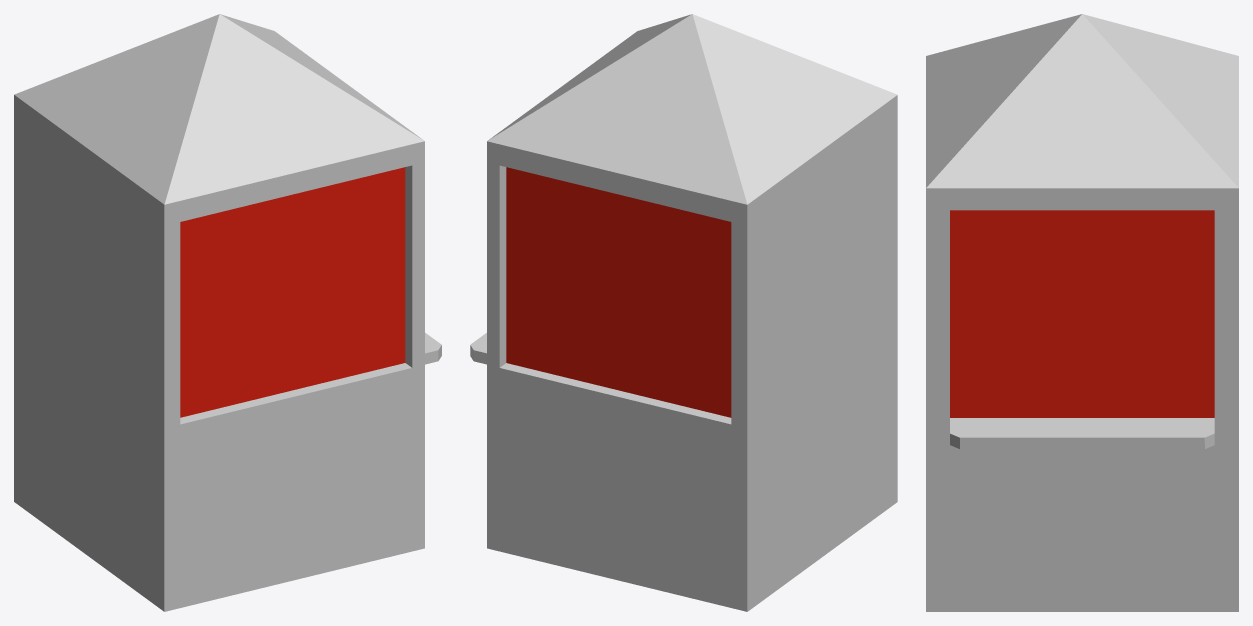
The model's file is Kartenhäuschen.fbx.
The picture shows the model from 3 angles, left to right: view 1: azimuth 30°, elevation 25°; view 2: azimuth 150°, elevation 25°; view 3: azimuth 270°, elevation 25°; orthographic projection. The views are drawn at different scales.
Parts seen in each view (by area): view 1: Bude, Fenster_L; view 2: Bude, Fenster_R; view 3: Bude, Fenster_V.
Boxes of the visible parts, x1,y1,x2,y2 form: Bude: (14,14,441,611); Fenster_L: (180,167,405,417); Bude: (470,14,897,611); Fenster_R: (506,167,731,417); Bude: (926,14,1238,611); Fenster_V: (950,210,1214,417).
Bounding box in the file's own units: 298 × 495 × 264.
